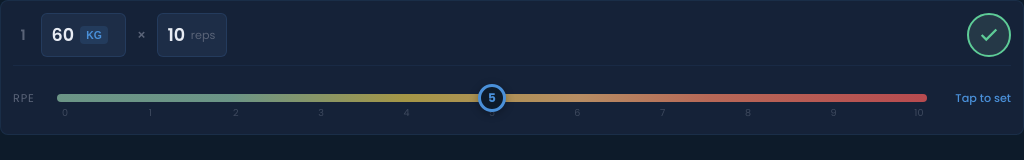
Test: SetRow › reps display › shows input when reps cell is clicked
This screenshot has width=1024, height=160.
Check: the text "10" next to "reps" is shown, box [167,22,185,48]
Note: Click to edit
Step 1. Click the element with class "reps-cell" → (192,35), box [157,13,227,57]
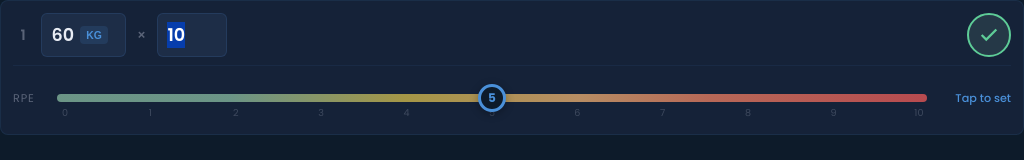
Check: the number field with class "inline-input" is shown, box [167,22,207,48]
